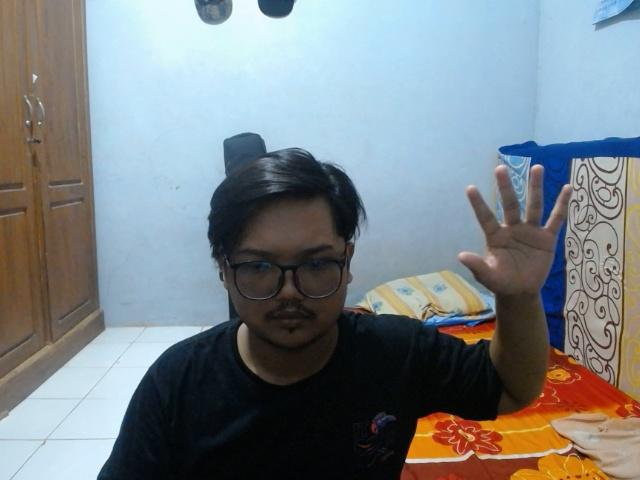Release: (454, 160, 581, 306)
